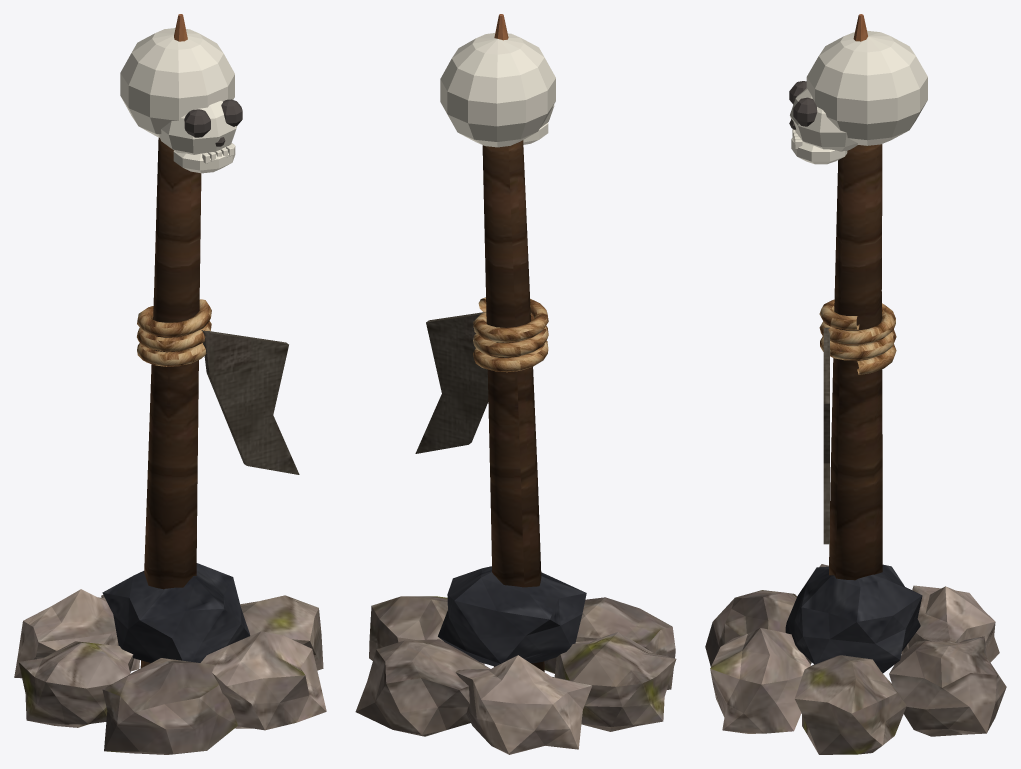
The model's file is skull_spike.glb.
The picture shows the model from 3 angles, left to right: view 1: azimuth 30°, elevation 25°; view 2: azimuth 150°, elevation 25°; view 3: azimuth 270°, elevation 25°; orthographic projection.
Parts seen in each view (by area): view 1: model; view 2: model; view 3: model.
Boxes of the visible parts, box(x1,y1,x2,y2) form: model: box(14, 14, 326, 754); model: box(355, 14, 676, 754); model: box(705, 14, 1006, 754).
Size of the model in its own units: 0.5492 by 1.23 by 0.4846.
Materials: 11 (8 with a texture image).
